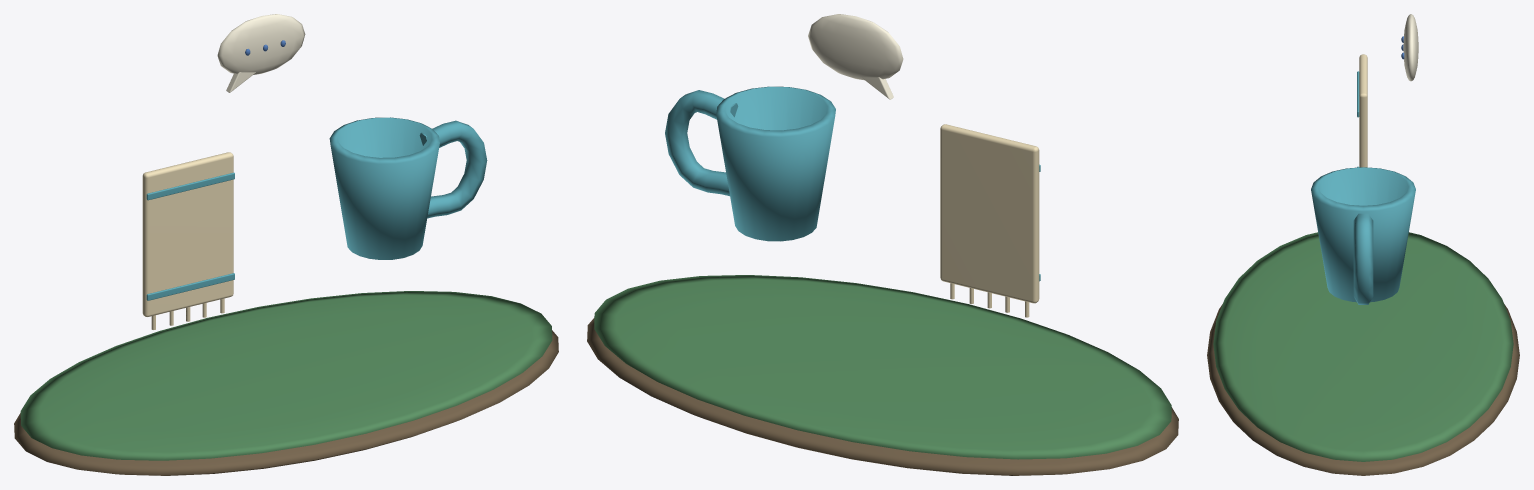
File: complete-third-dry-cup-toast.glb
3 renders of one model, left to right at view 1: azimuth 30°, elevation 25°; view 2: azimuth 150°, elevation 25°; view 3: azimuth 270°, elevation 25°, orthographic. The views are drawn at different scales.
Visible parts, largest first — view 1: complete-third-dry-cup-toast_surface_01, complete-third-dry-cup-toast_surface_03, complete-third-dry-cup-toast_surface_02, complete-third-dry-cup-toast_surface_00, complete-third-dry-cup-toast_surface_04; view 2: complete-third-dry-cup-toast_surface_01, complete-third-dry-cup-toast_surface_03, complete-third-dry-cup-toast_surface_02, complete-third-dry-cup-toast_surface_00, complete-third-dry-cup-toast_surface_04; view 3: complete-third-dry-cup-toast_surface_01, complete-third-dry-cup-toast_surface_03, complete-third-dry-cup-toast_surface_00, complete-third-dry-cup-toast_surface_02, complete-third-dry-cup-toast_surface_04.
Boxes of the visible parts, x1=… form: complete-third-dry-cup-toast_surface_01: x1=20, y1=291, x2=552, y2=460; complete-third-dry-cup-toast_surface_03: x1=146, y1=117, x2=487, y2=300; complete-third-dry-cup-toast_surface_02: x1=142, y1=152, x2=233, y2=329; complete-third-dry-cup-toast_surface_00: x1=14, y1=330, x2=558, y2=475; complete-third-dry-cup-toast_surface_04: x1=217, y1=14, x2=305, y2=92; complete-third-dry-cup-toast_surface_01: x1=594, y1=275, x2=1171, y2=459; complete-third-dry-cup-toast_surface_03: x1=665, y1=86, x2=1040, y2=281; complete-third-dry-cup-toast_surface_02: x1=940, y1=124, x2=1039, y2=317; complete-third-dry-cup-toast_surface_00: x1=587, y1=318, x2=1178, y2=475; complete-third-dry-cup-toast_surface_04: x1=808, y1=14, x2=903, y2=99; complete-third-dry-cup-toast_surface_01: x1=1213, y1=232, x2=1513, y2=461; complete-third-dry-cup-toast_surface_03: x1=1311, y1=71, x2=1415, y2=304; complete-third-dry-cup-toast_surface_00: x1=1207, y1=304, x2=1519, y2=475; complete-third-dry-cup-toast_surface_02: x1=1359, y1=54, x2=1367, y2=167; complete-third-dry-cup-toast_surface_04: x1=1403, y1=14, x2=1418, y2=81.
Size of the model in its own units: 4.56 by 3.08 by 2.5.
